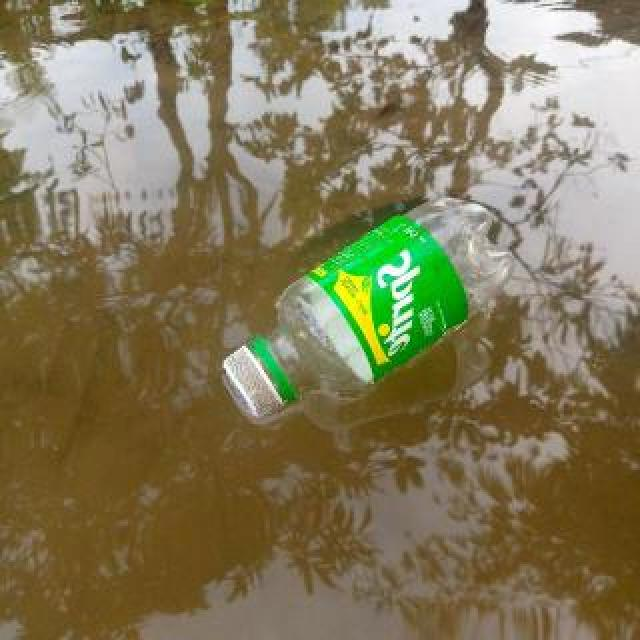Bottle: (206, 152, 508, 434)
